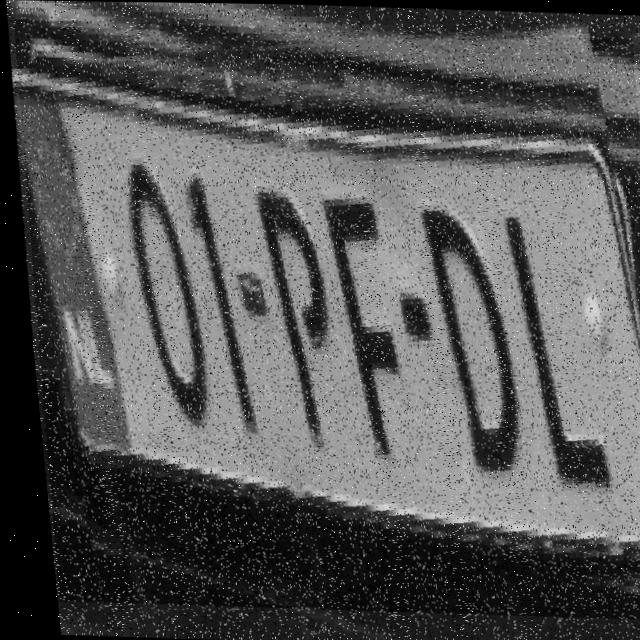LicensePlate: (2, 19, 640, 619)
